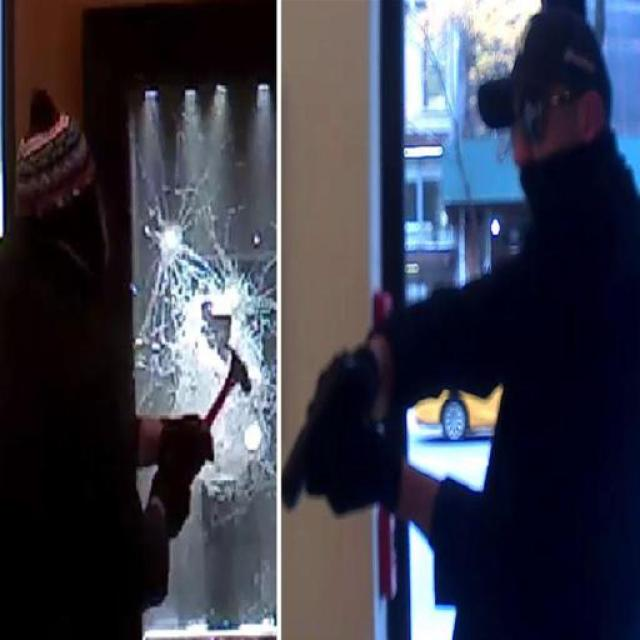pistol: (285, 321, 385, 523)
